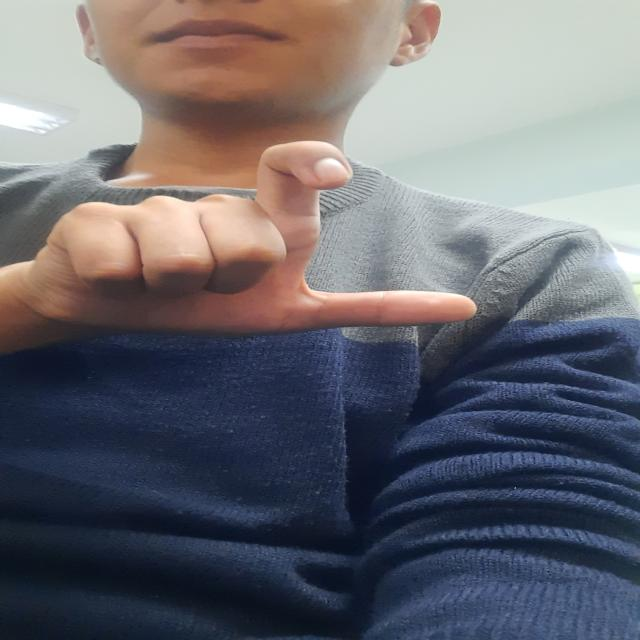G: (0, 137, 498, 337)
